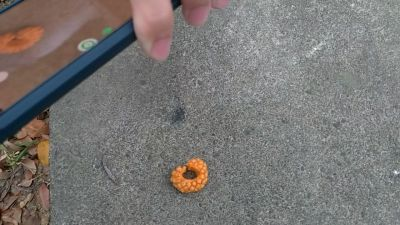eggs: (169, 156, 211, 196)
